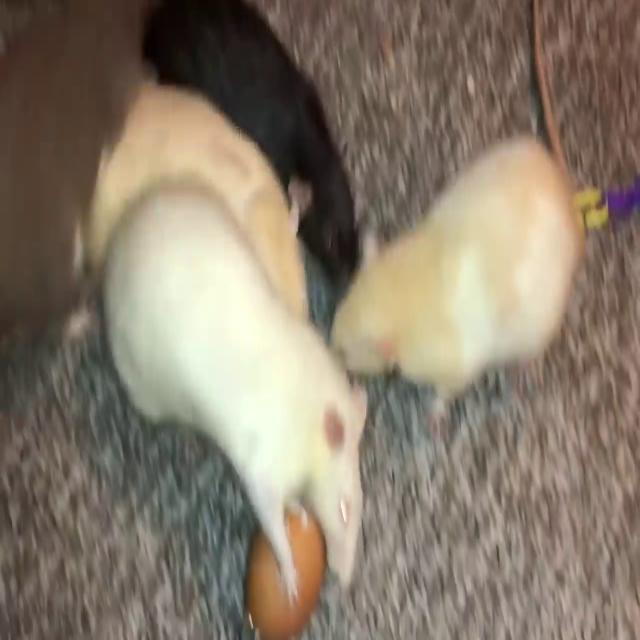rat: (108, 203, 361, 577), (345, 117, 607, 394), (141, 0, 360, 252)
